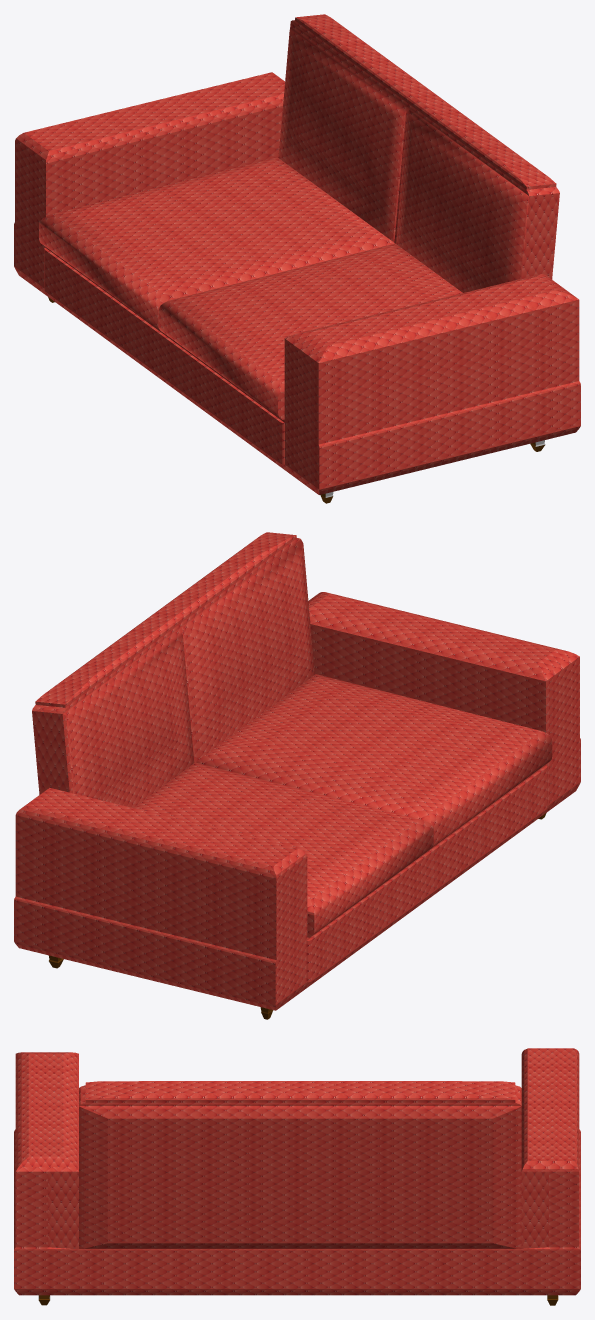
File: sofa.fbx
3 views of the same model, one above another, from view 1: azimuth 30°, elevation 25°; view 2: azimuth 150°, elevation 25°; view 3: azimuth 270°, elevation 25° (orthographic). The views are drawn at different scales.
Visible parts, largest first — view 1: sofa:Mesh; view 2: sofa:Mesh; view 3: sofa:Mesh.
Boxes of the visible parts, x1,y1,x2,y2 form: sofa:Mesh: (14,14,580,503); sofa:Mesh: (14,532,580,1019); sofa:Mesh: (14,1048,580,1305).
Bounding box in the file's own units: 5.01 × 4.14 × 9.23.
3 materials, 1 textured.
